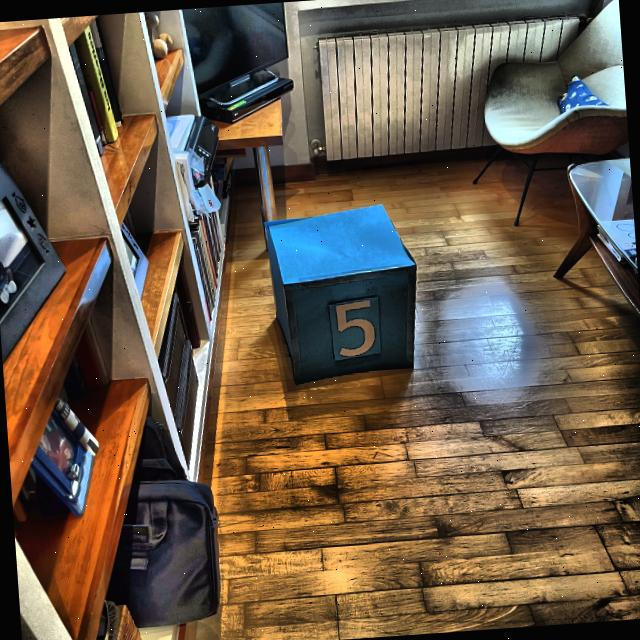blue box: (262, 200, 422, 388)
five: (332, 298, 381, 359)
